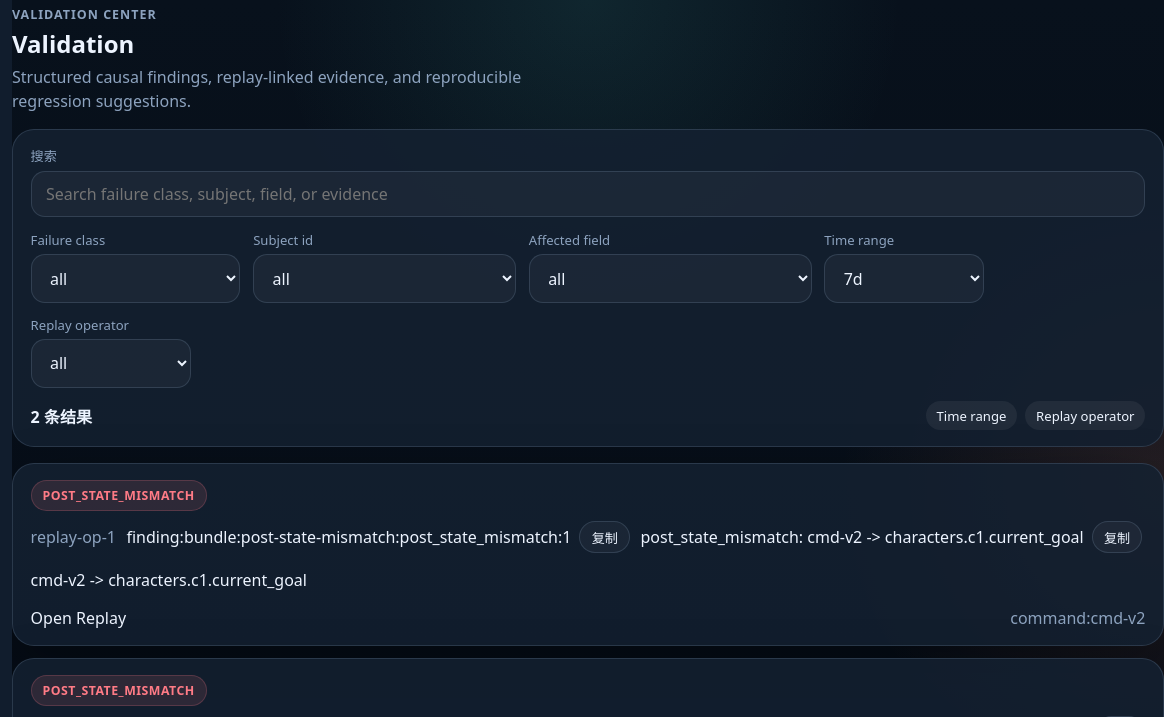
Test: page contracts › filters validation findings by supported time range
This screenshot has width=1164, height=717.
Check: the text "2 条结果" is shown, box [31,404,92,428]
Select "all" in the dropdown labelled "Time range". click: (904, 279)
box: [824,254,984,303]
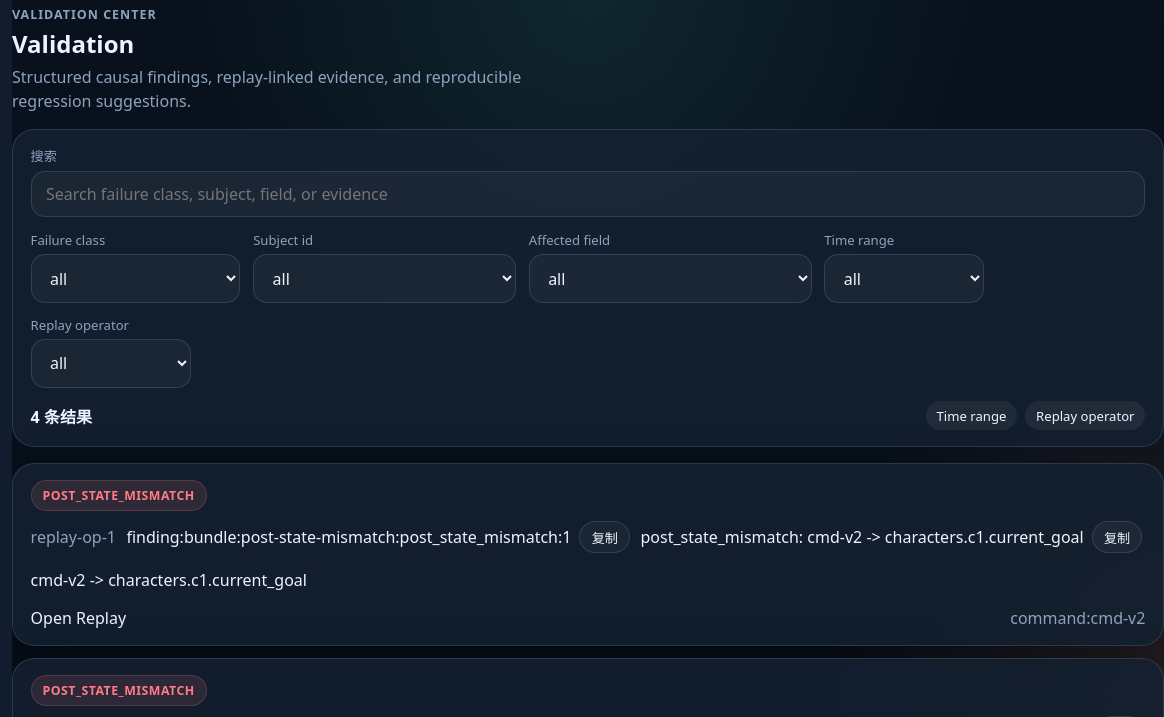
Check: the text "4 条结果" is shown, box [31,404,92,428]
Select "24h" in the dropdown labelled "Time range". click: (904, 279)
box: [824,254,984,303]
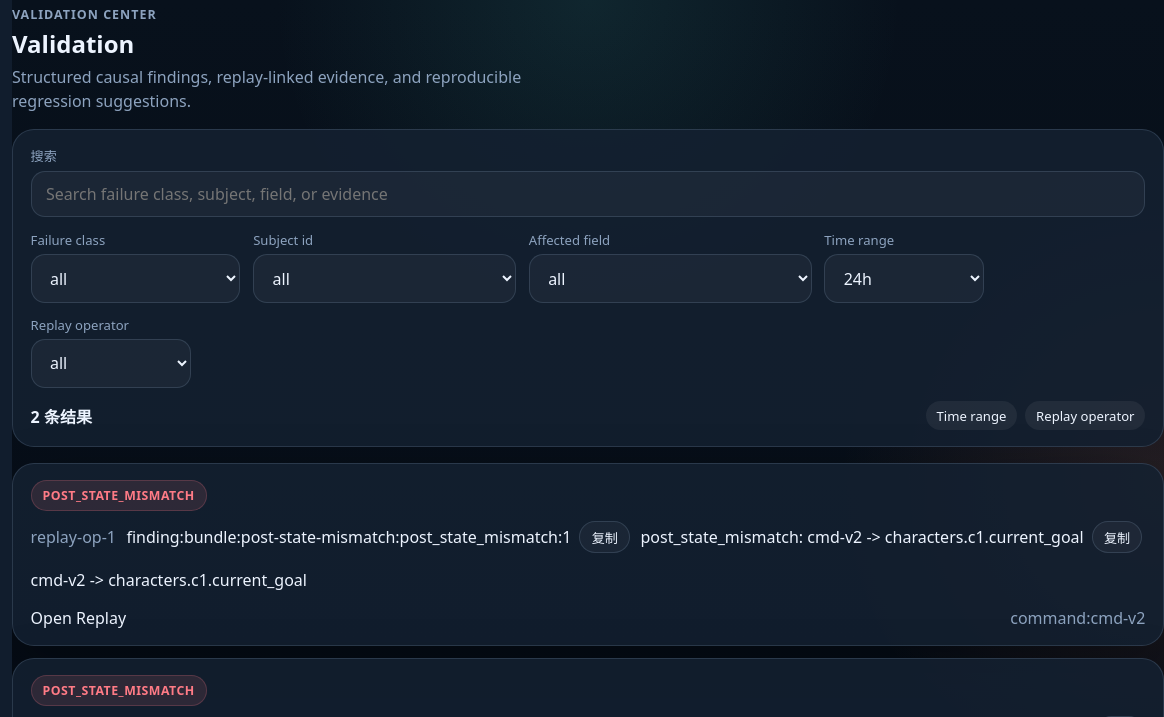
Check: the text "2 条结果" is shown, box [31,404,92,428]
